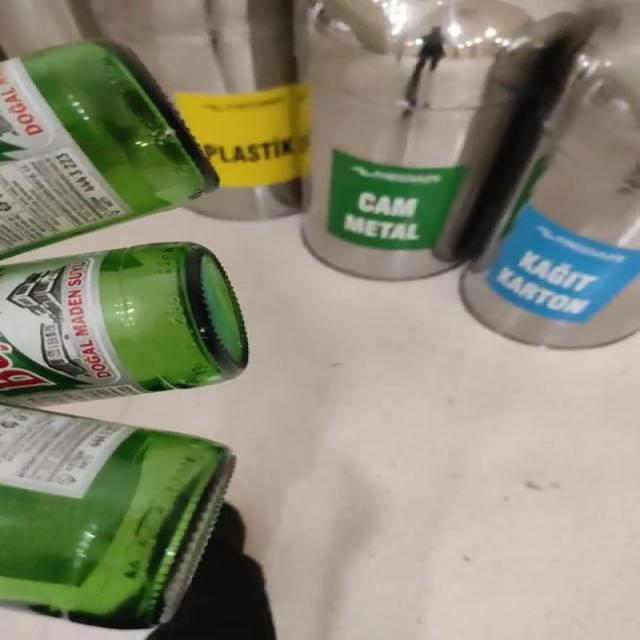Glass: (0, 243, 248, 630), (0, 41, 217, 257)
